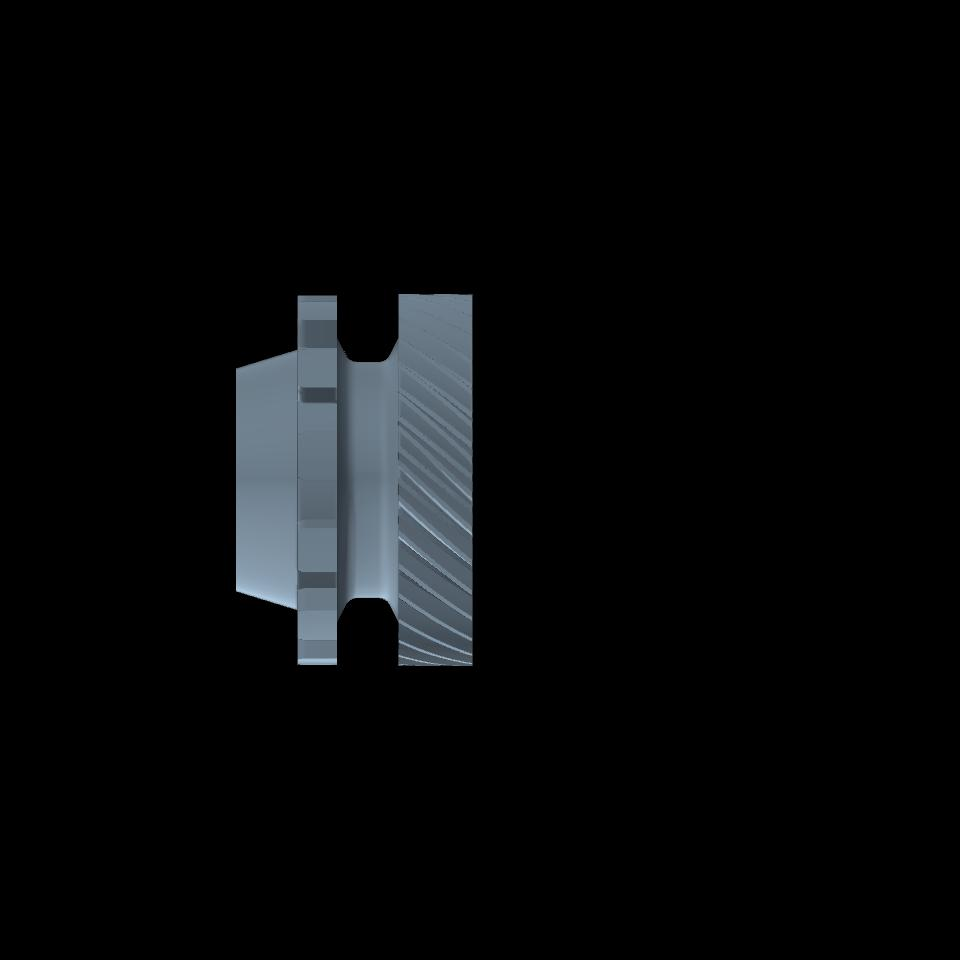Helical: (398, 293, 473, 664)
